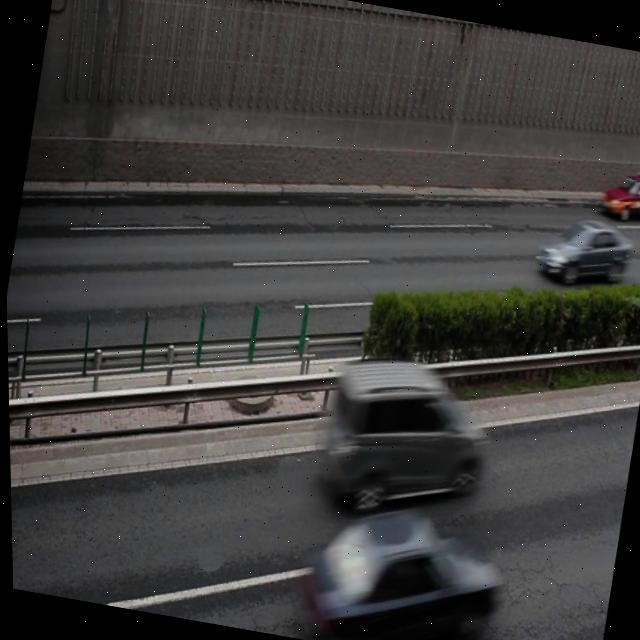car: (281, 485, 503, 640), (309, 346, 496, 524), (530, 208, 633, 291), (595, 168, 640, 226)
